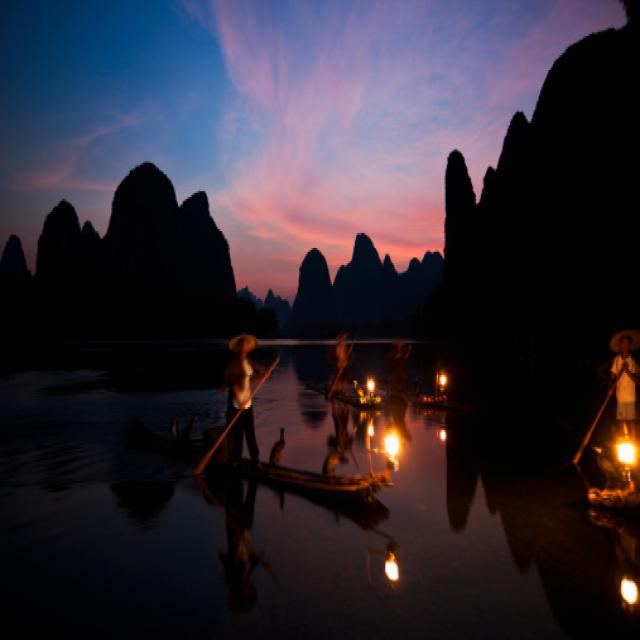Boat: (190, 368, 429, 561), (545, 404, 640, 535)
People: (203, 296, 264, 470), (301, 322, 361, 497), (596, 302, 640, 428)
